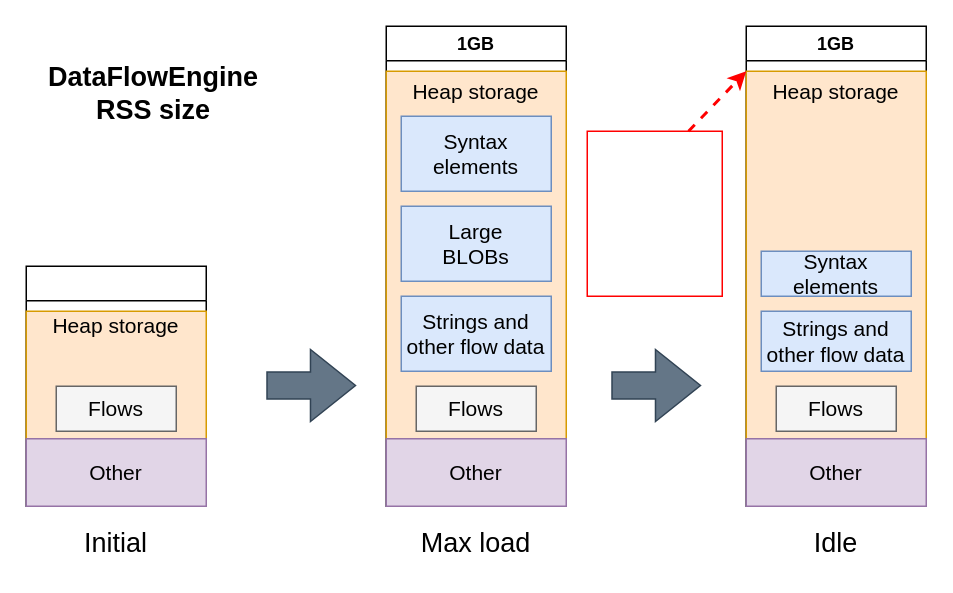
Image size: 953x593. Some labels were removed from this diagram. The box of each missing label's shape, as (x1, y1, x2, y2) in pixels:
500MB: (25, 265, 206, 506)
Process size still large despite lots of free heap space: (586, 130, 722, 296)
